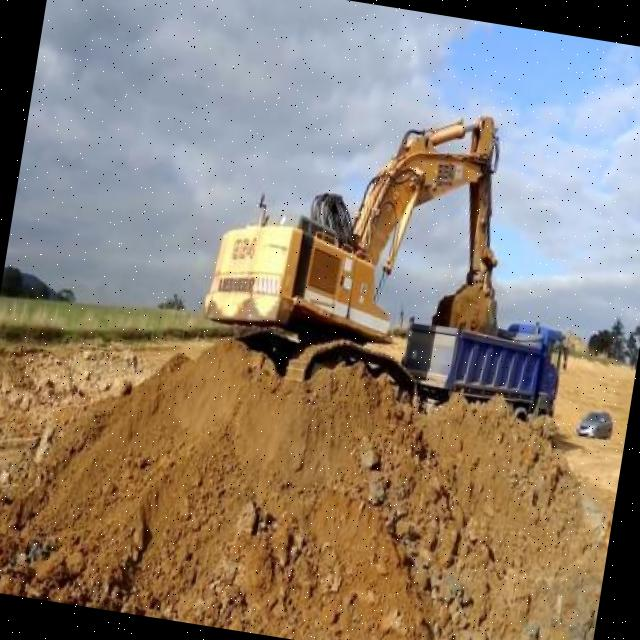Dump Truck: (394, 300, 572, 426)
Excavator: (193, 72, 532, 415)
